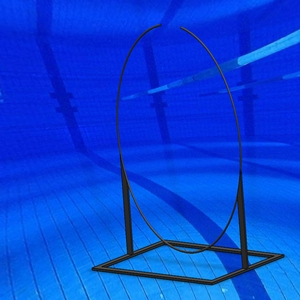circle: (92, 23, 285, 286)
